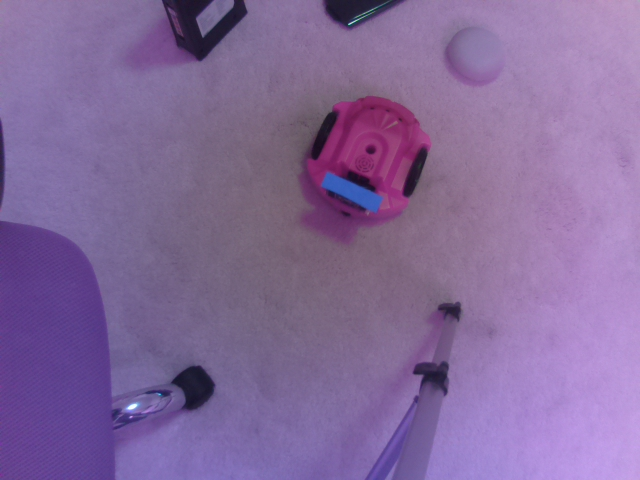board: (318, 168, 383, 215)
chassis: (304, 88, 436, 230)
